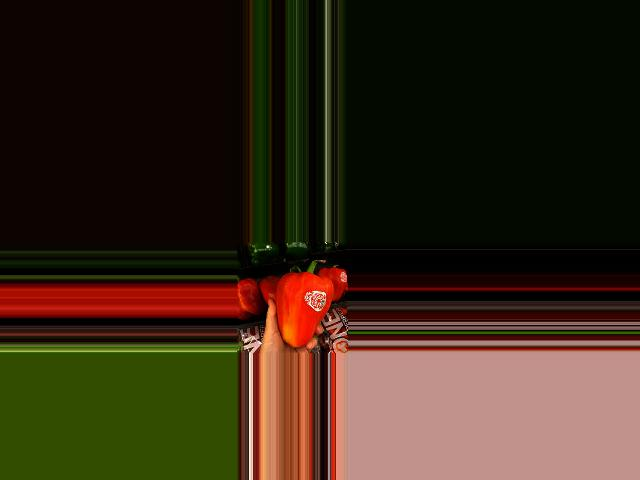bell_pepper: (269, 258, 335, 346)
